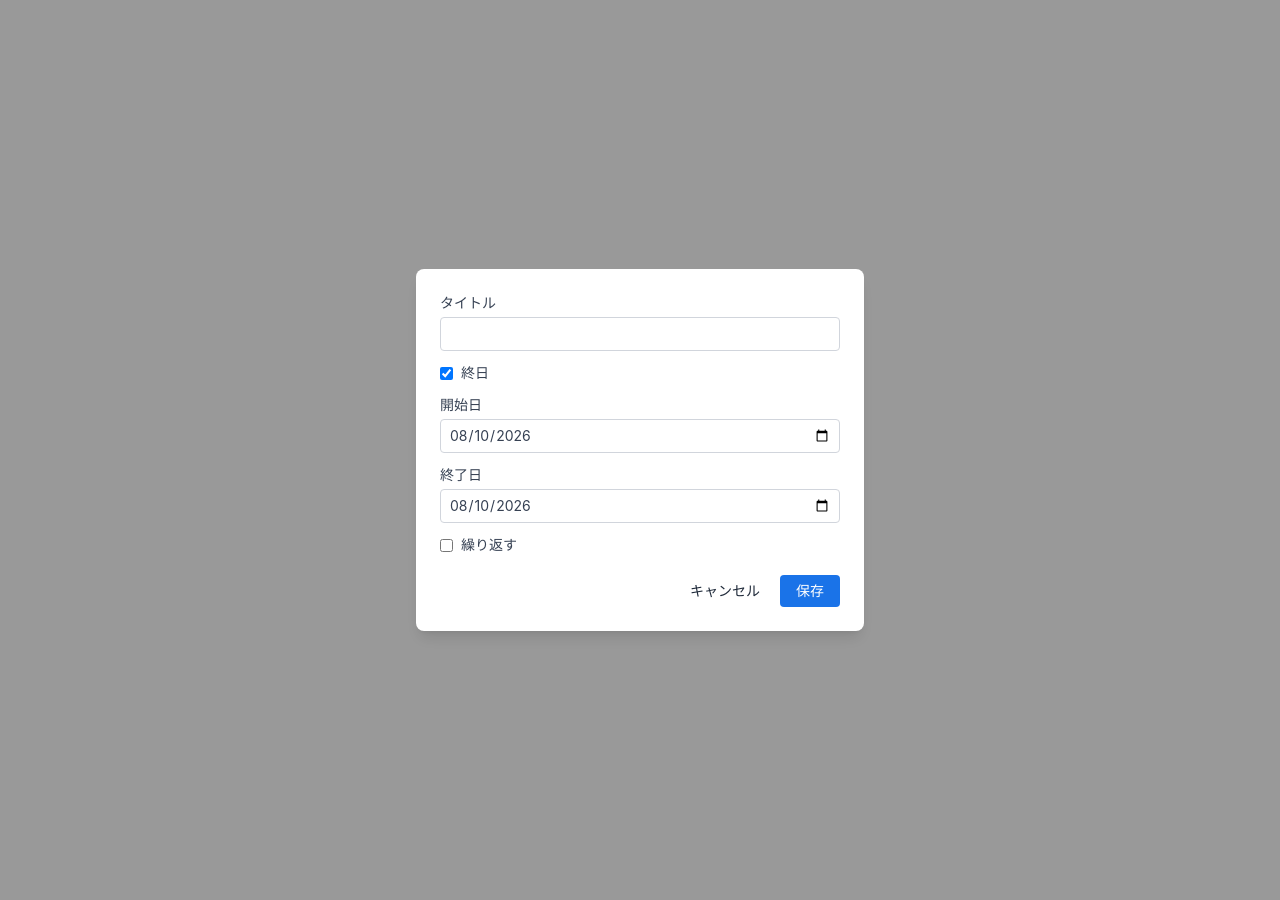
re-syncs the end time once a manual edit becomes invalid against a new start time
The image size is (1280, 900).
Click the checkbox labelled "終日" at (446, 373), box [440,366,453,380]
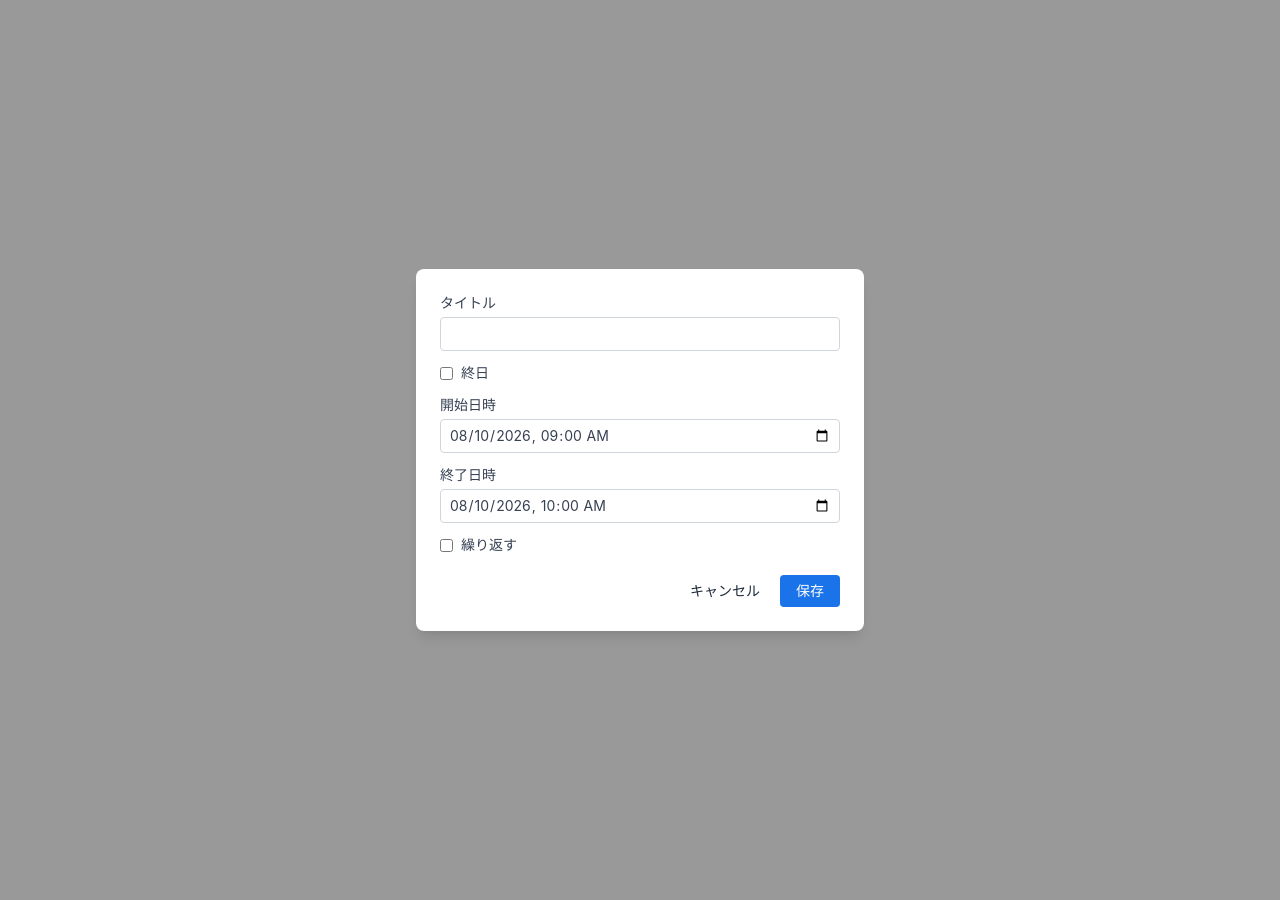
Replace the text in the field labelled "終了日時" with "2026-08-10T18:00" at (640, 506), box [440,489,840,523]
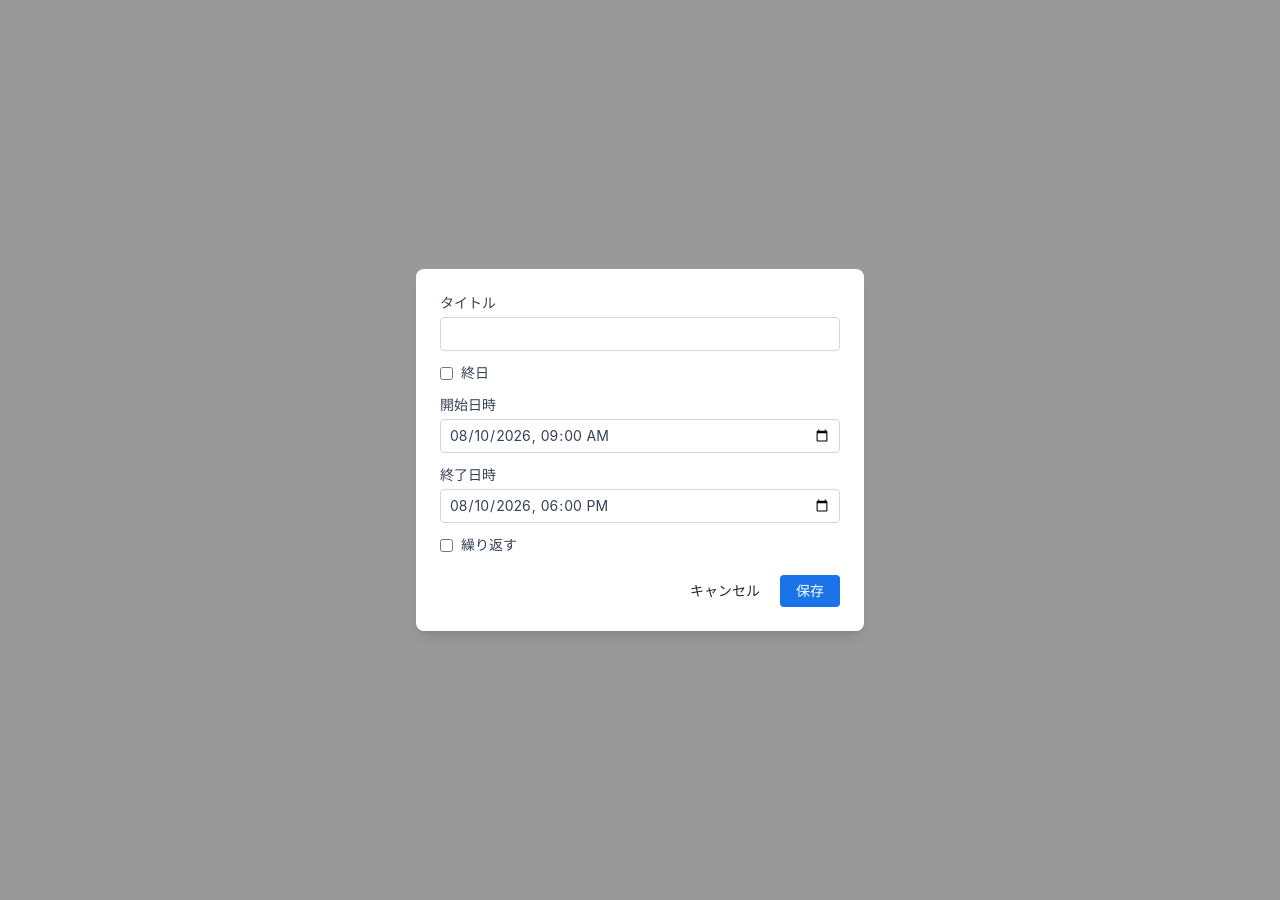
Replace the text in the field labelled "開始日時" with "2026-08-10T19:00" at (640, 436), box [440,419,840,453]
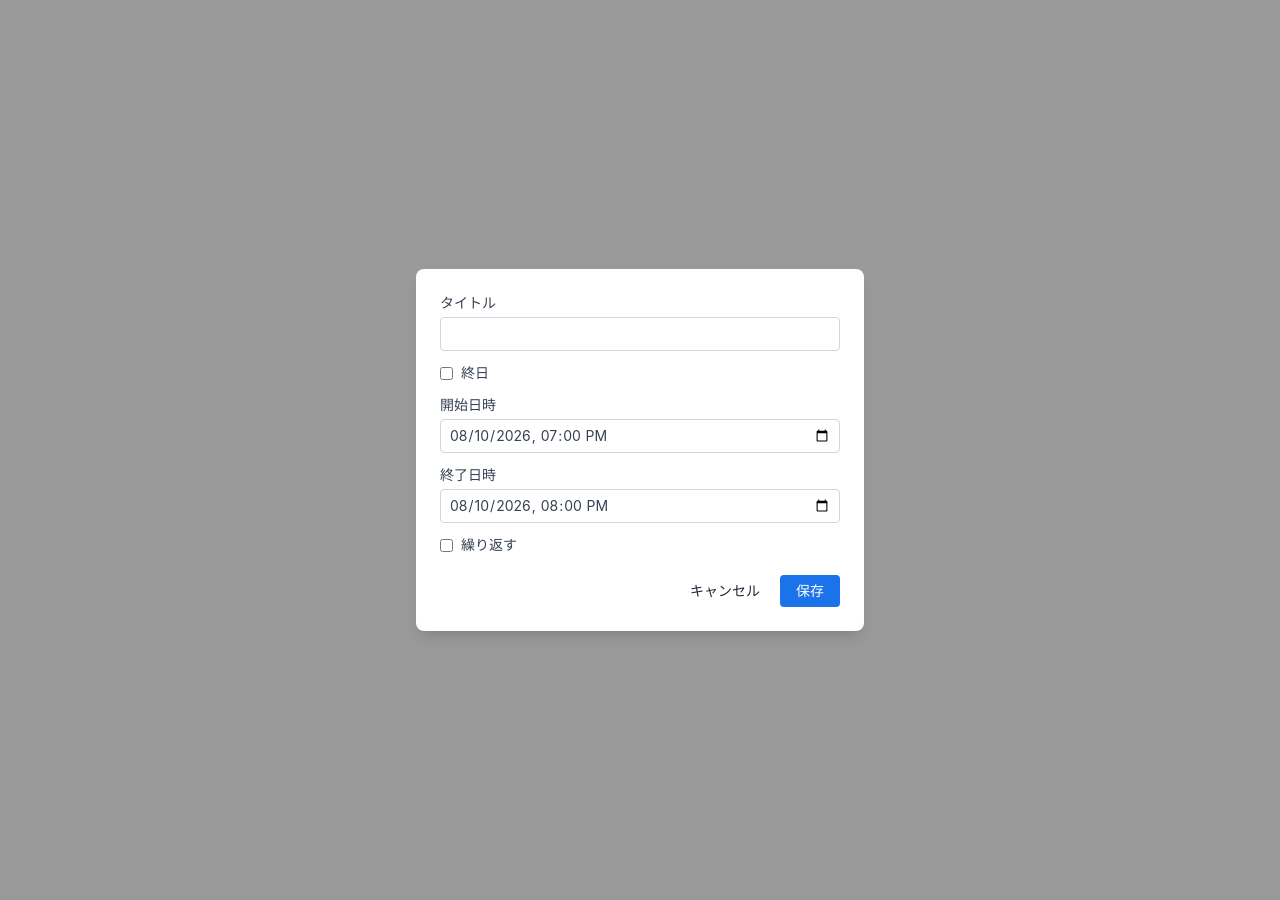
Check: the field labelled "終了日時" holds "2026-08-10T20:00", box [440,489,840,523]
